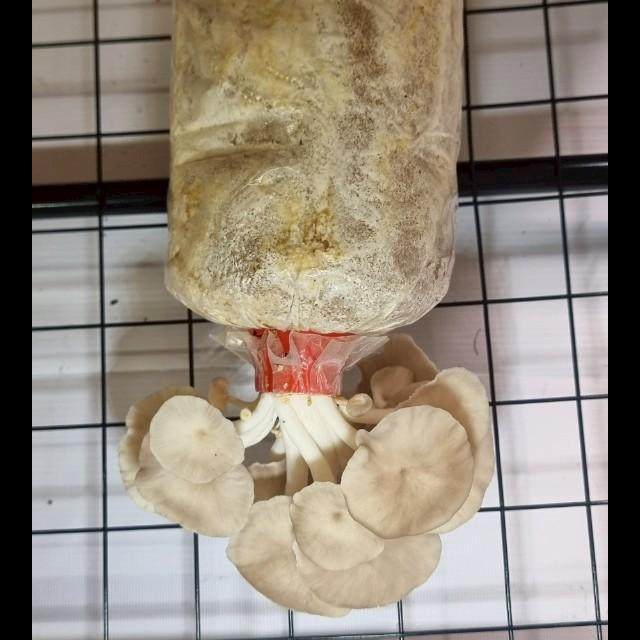normal: (226, 376, 428, 630), (302, 356, 474, 554), (112, 354, 280, 546)
